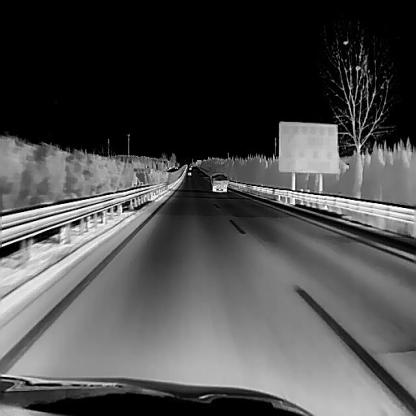car: (187, 168, 191, 175)
truck: (209, 172, 228, 190)
